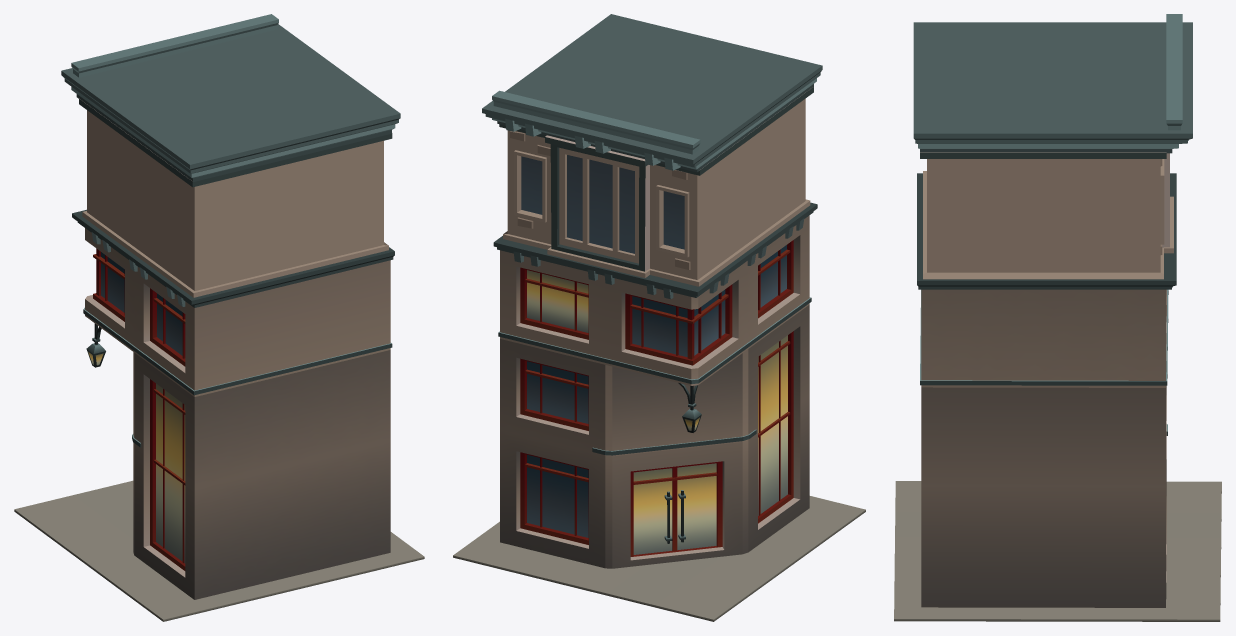
The model's file is BLD1210016.fbx.
3 renders of one model, left to right at view 1: azimuth 30°, elevation 25°; view 2: azimuth 150°, elevation 25°; view 3: azimuth 270°, elevation 25°, orthographic. The views are drawn at different scales.
Visible parts, largest first — view 1: smBLD1210016; view 2: smBLD1210016; view 3: smBLD1210016.
Boxes of the visible parts, bbox=[...] form: smBLD1210016: bbox=[14, 14, 424, 621]; smBLD1210016: bbox=[453, 14, 865, 621]; smBLD1210016: bbox=[894, 14, 1221, 621].
Bounding box in the file's own units: 967 × 1597 × 967.
Materials: 1 (1 with a texture image).
